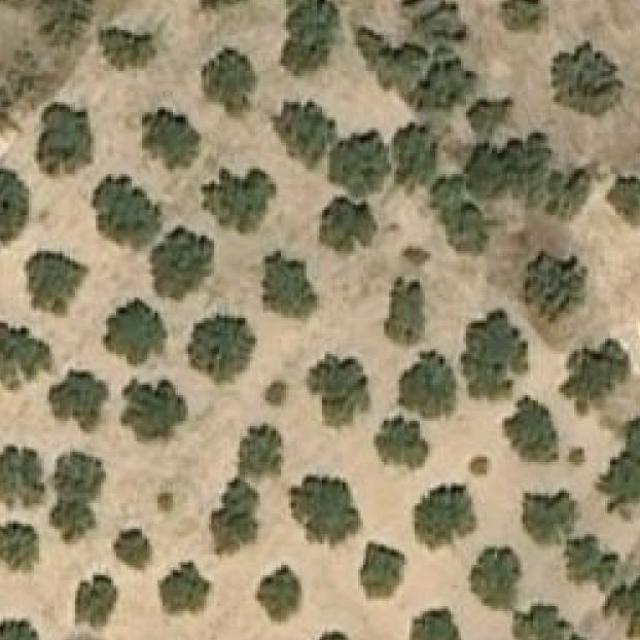Tree: (463, 130, 551, 202), (461, 308, 528, 400), (561, 335, 631, 416), (550, 40, 622, 117), (185, 308, 255, 382), (200, 166, 276, 234), (49, 452, 106, 542), (306, 351, 370, 431), (595, 398, 640, 511), (90, 174, 160, 246), (412, 482, 482, 554), (276, 0, 337, 76), (272, 99, 338, 169), (152, 226, 214, 300), (520, 249, 581, 324), (291, 476, 358, 542), (100, 298, 164, 364), (399, 349, 456, 419), (26, 249, 87, 314), (324, 128, 389, 189), (120, 380, 186, 439), (36, 104, 91, 174), (260, 249, 317, 316), (201, 48, 257, 115), (209, 476, 258, 552), (142, 107, 202, 169), (504, 395, 559, 462), (317, 195, 379, 254), (49, 372, 109, 431), (0, 321, 50, 388), (420, 53, 476, 112), (538, 162, 592, 223), (471, 548, 521, 612), (358, 541, 410, 601), (255, 563, 305, 624), (389, 123, 438, 184), (33, 0, 98, 45), (384, 277, 425, 347), (404, 0, 472, 42), (372, 416, 427, 467), (235, 421, 284, 477), (0, 445, 44, 506), (157, 563, 209, 614), (0, 167, 34, 244), (98, 28, 157, 72), (602, 573, 640, 640), (525, 491, 574, 542), (74, 575, 118, 630), (445, 205, 492, 254), (513, 601, 572, 640), (569, 532, 615, 578), (0, 522, 39, 573), (409, 606, 461, 640), (497, 0, 548, 33), (472, 99, 512, 138), (608, 176, 640, 224), (113, 529, 147, 568), (257, 374, 291, 408), (194, 0, 254, 17), (0, 621, 39, 640), (307, 628, 359, 640), (401, 246, 432, 266), (466, 455, 492, 475), (563, 447, 586, 467), (157, 493, 173, 511)
